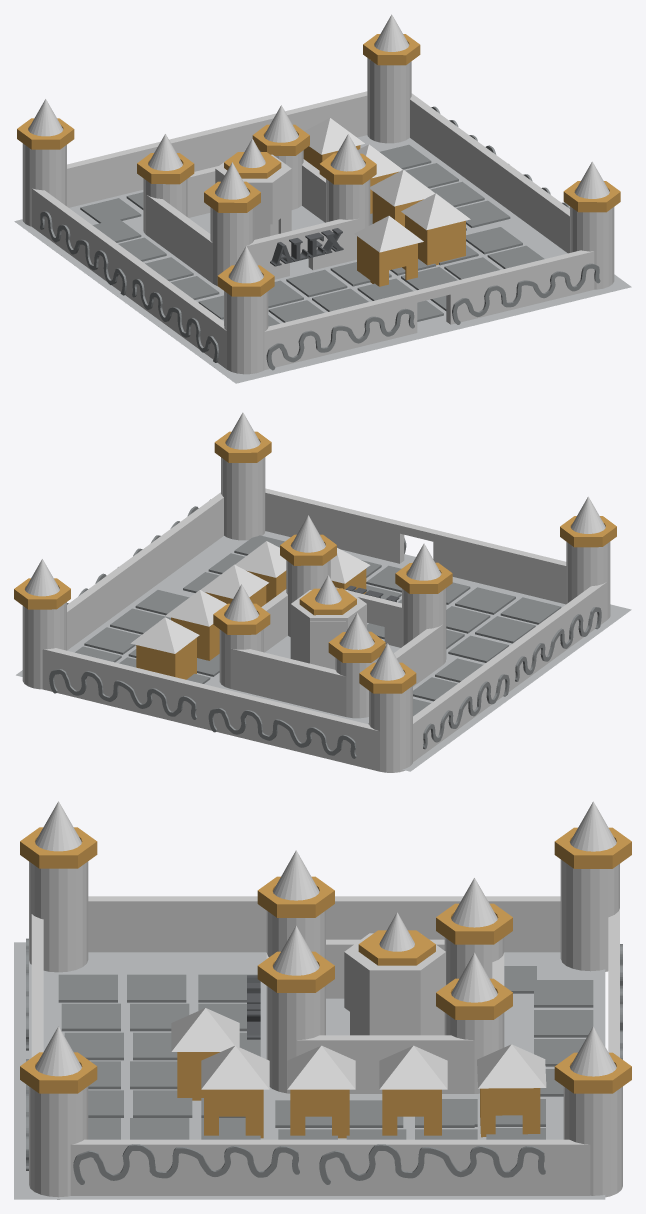
Rendered from Alexcastle.glb.
3 views of the same model, one above another, from view 1: azimuth 30°, elevation 25°; view 2: azimuth 150°, elevation 25°; view 3: azimuth 270°, elevation 25° (orthographic). The views are drawn at different scales.
Parts seen in each view (by area): view 1: Mesh_Mesh_head_geo.001_lambert2SG.001; view 2: Mesh_Mesh_head_geo.001_lambert2SG.001; view 3: Mesh_Mesh_head_geo.001_lambert2SG.001.
Part boxes in pixels (x1=…): Mesh_Mesh_head_geo.001_lambert2SG.001: x1=14, y1=14, x2=631, y2=383; Mesh_Mesh_head_geo.001_lambert2SG.001: x1=14, y1=412, x2=631, y2=772; Mesh_Mesh_head_geo.001_lambert2SG.001: x1=14, y1=801, x2=631, y2=1199.
Size of the model in its own units: 205 by 60 by 208.
